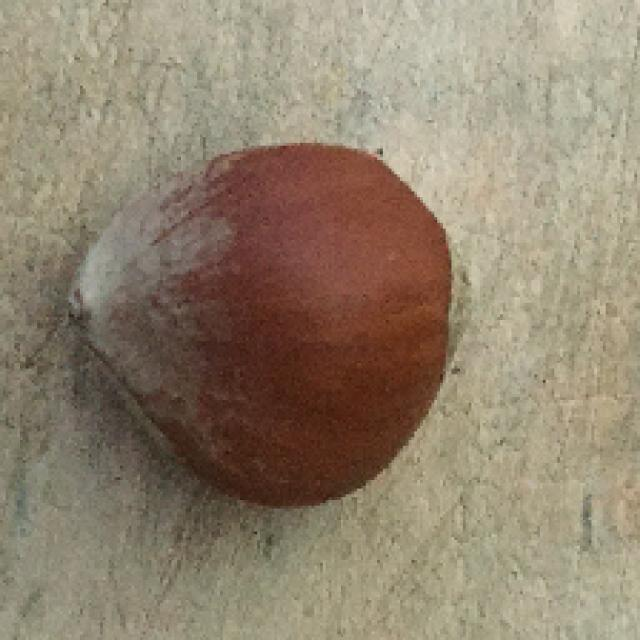QualityHazelnut: (63, 141, 483, 512)
